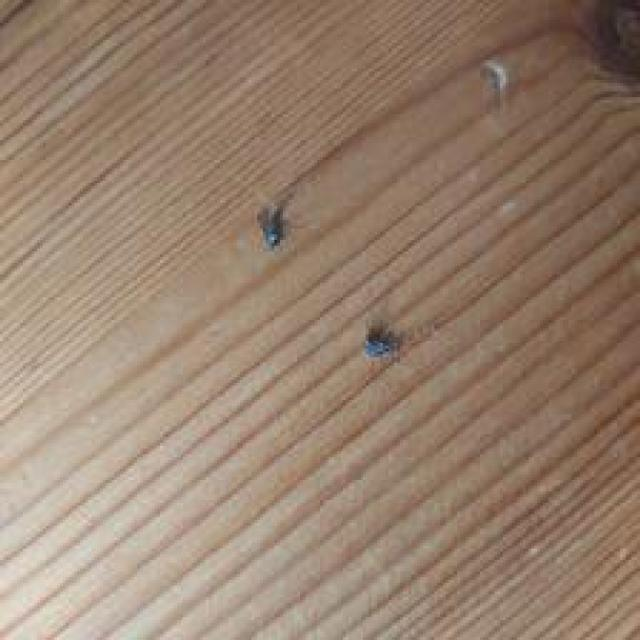Aedes albopictus: (254, 192, 294, 252)
